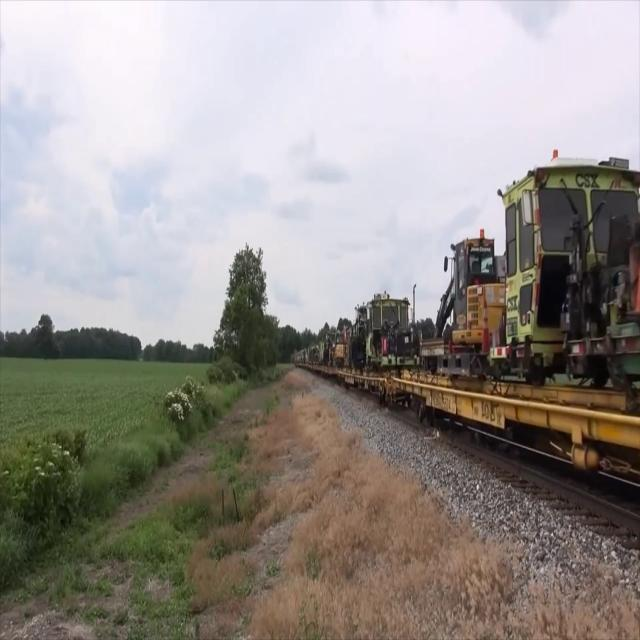cargo: (489, 144, 640, 396), (418, 224, 504, 378), (363, 284, 420, 374)
flatcar: (387, 367, 640, 518), (337, 366, 388, 408)
